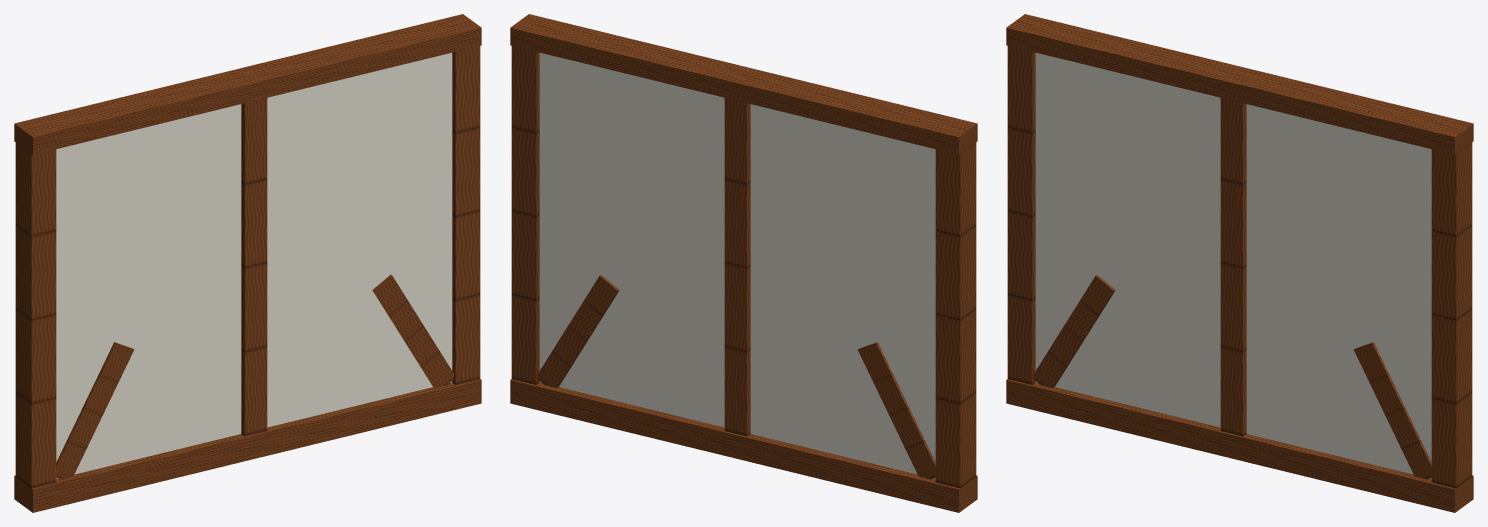
The model's file is timber-framed-wall-module-4-m.glb.
3 renders of one model, left to right at view 1: azimuth 30°, elevation 25°; view 2: azimuth 150°, elevation 25°; view 3: azimuth 330°, elevation 25°, orthographic.
Visible parts, largest first — view 1: blacksmith-forge-and-armoury-timber-frame-wall; view 2: blacksmith-forge-and-armoury-timber-frame-wall; view 3: blacksmith-forge-and-armoury-timber-frame-wall.
Part boxes in pixels (x1,y1,x2,y2): blacksmith-forge-and-armoury-timber-frame-wall: (14,14,481,512); blacksmith-forge-and-armoury-timber-frame-wall: (510,14,977,512); blacksmith-forge-and-armoury-timber-frame-wall: (1006,14,1473,512).
Bounding box in the file's own units: 4 × 3.2 × 0.29.
2 materials, 1 textured.
